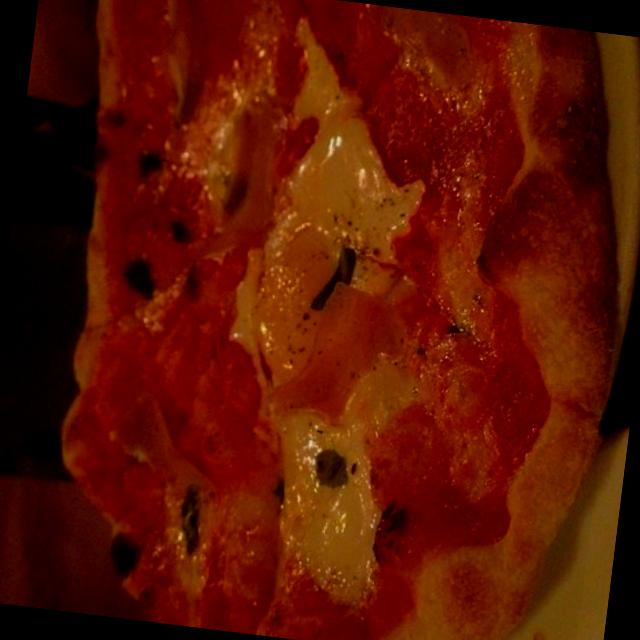pizza: (62, 0, 614, 640)
